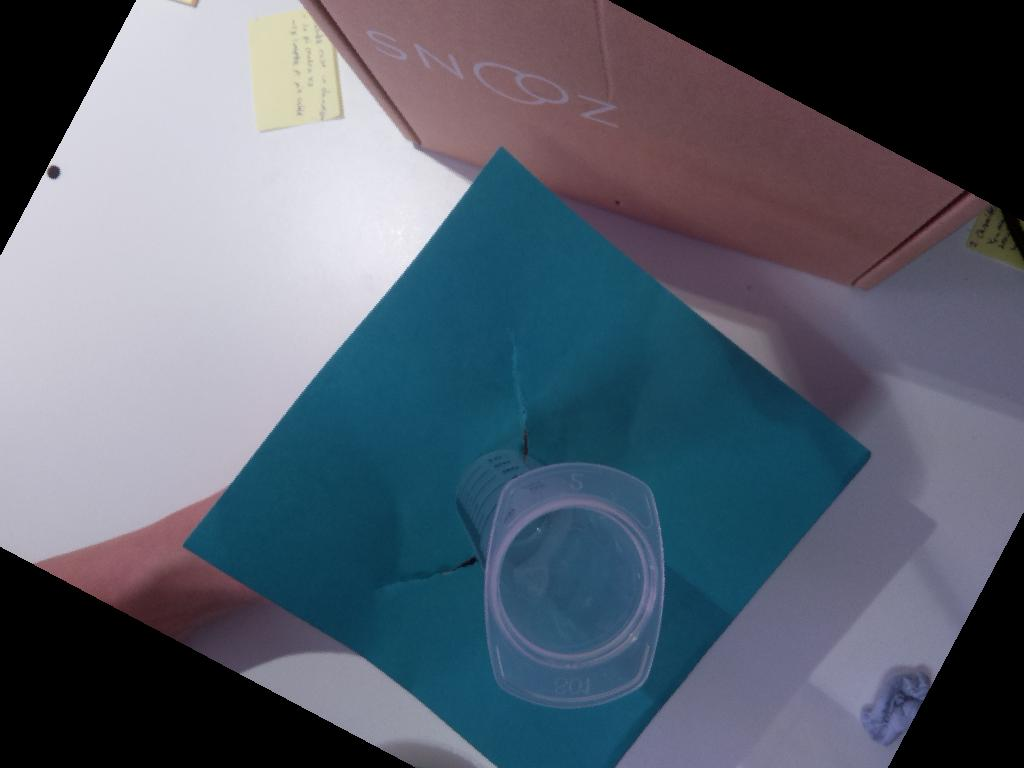clean: (483, 463, 666, 710)
